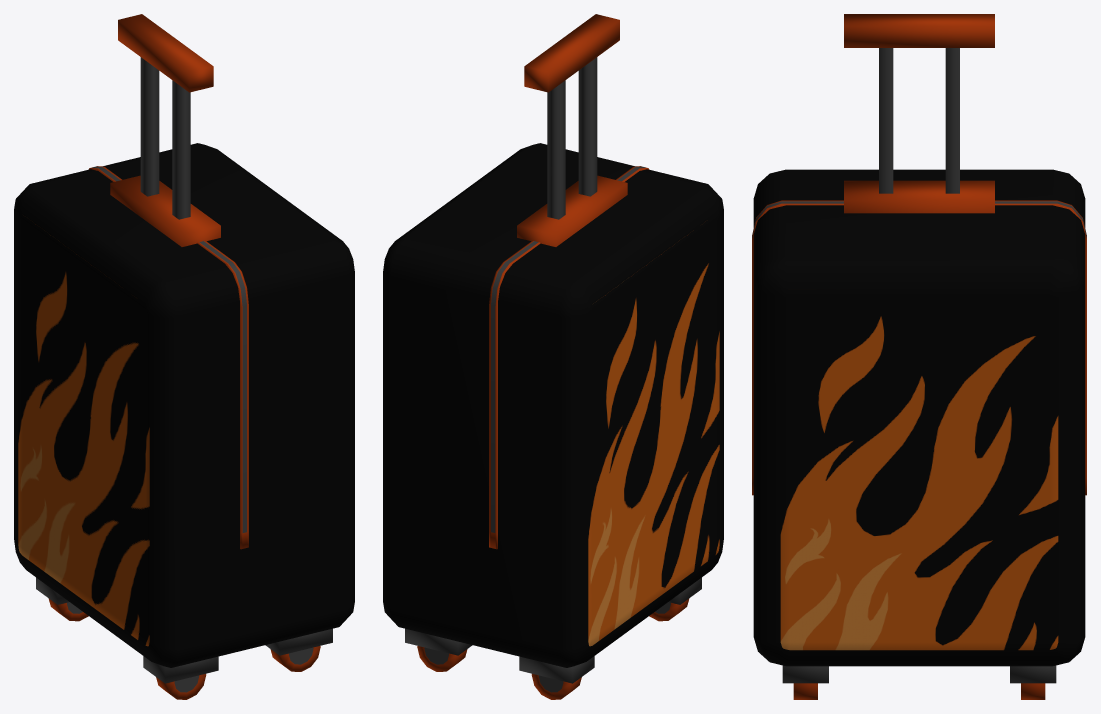
Rendered from hot_rod.glb.
3 renders of one model, left to right at view 1: azimuth 30°, elevation 25°; view 2: azimuth 150°, elevation 25°; view 3: azimuth 270°, elevation 25°, orthographic. The views are drawn at different scales.
Visible parts, largest first — view 1: Flame Luggage Body, Flame Luggage Handles, Flame Luggage Bars, Flame Luggage Wheels, Flame Luggage Zipper; view 2: Flame Luggage Body, Flame Luggage Handles, Flame Luggage Bars, Flame Luggage Wheels, Flame Luggage Zipper; view 3: Flame Luggage Body, Flame Luggage Handles, Flame Luggage Bars, Flame Luggage Wheels, Flame Luggage Zipper.
Boxes of the visible parts, bbox=[...] form: Flame Luggage Body: bbox=[14, 143, 354, 667]; Flame Luggage Handles: bbox=[110, 14, 220, 246]; Flame Luggage Bars: bbox=[140, 57, 190, 219]; Flame Luggage Wheels: bbox=[36, 577, 332, 699]; Flame Luggage Zipper: bbox=[89, 166, 248, 549]; Flame Luggage Body: bbox=[383, 143, 723, 667]; Flame Luggage Handles: bbox=[517, 14, 627, 246]; Flame Luggage Bars: bbox=[547, 57, 597, 219]; Flame Luggage Wheels: bbox=[405, 577, 701, 699]; Flame Luggage Zipper: bbox=[489, 166, 648, 549]; Flame Luggage Body: bbox=[753, 169, 1085, 666]; Flame Luggage Handles: bbox=[844, 14, 994, 213]; Flame Luggage Bars: bbox=[879, 48, 959, 193]; Flame Luggage Wheels: bbox=[782, 665, 1056, 699]; Flame Luggage Zipper: bbox=[752, 200, 1086, 495].
Bounding box in the file's own units: 1.48 × 4.25 × 2.02.
Materials: 4 (1 with a texture image).
